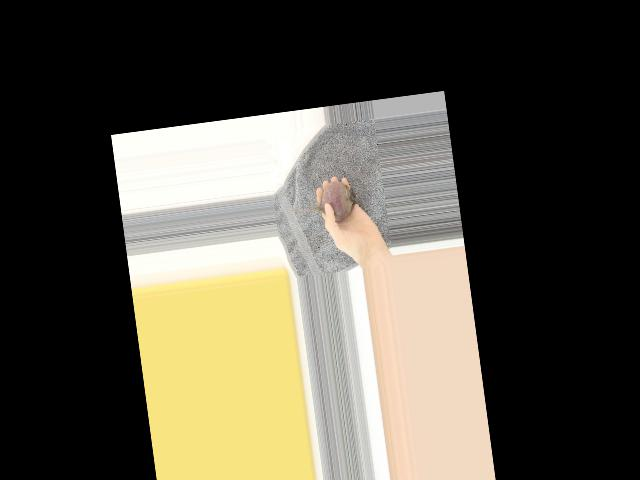beet: (288, 178, 359, 227)
